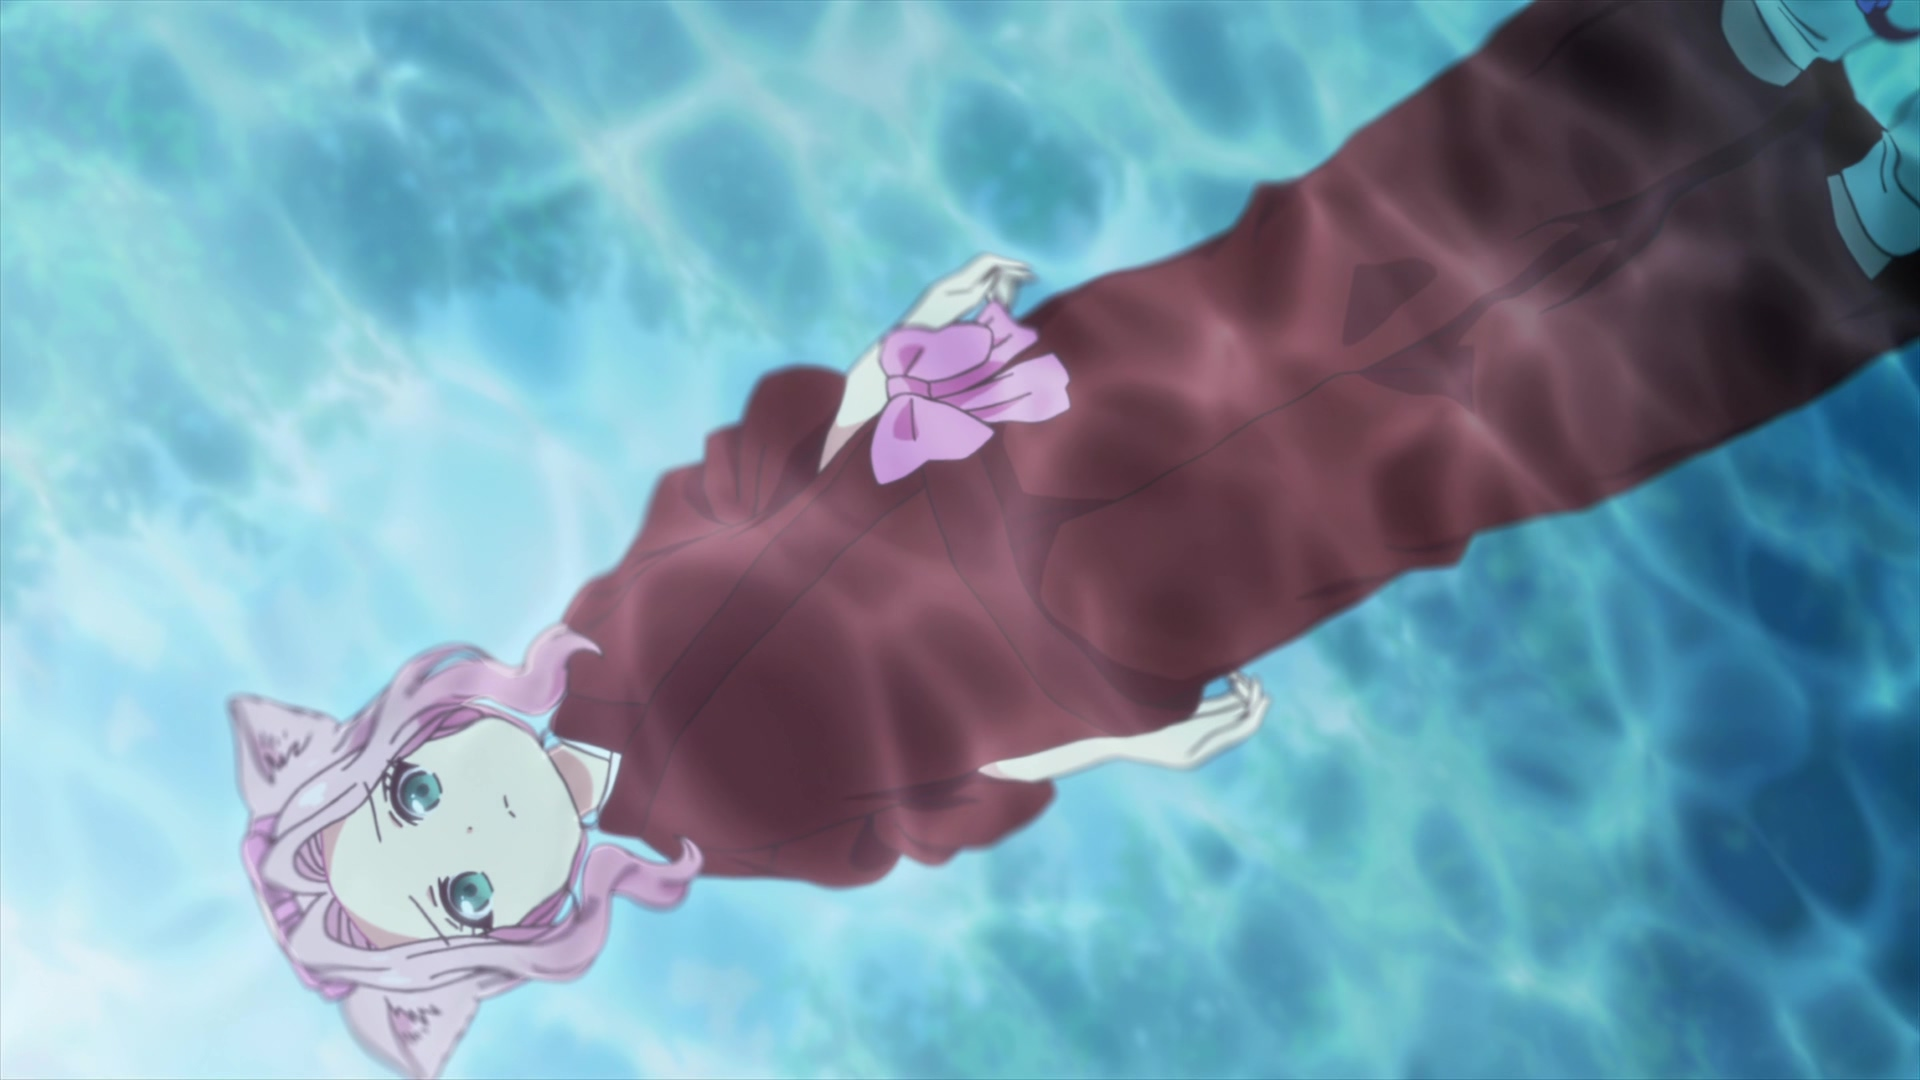莲: (228, 1, 1920, 1080)
